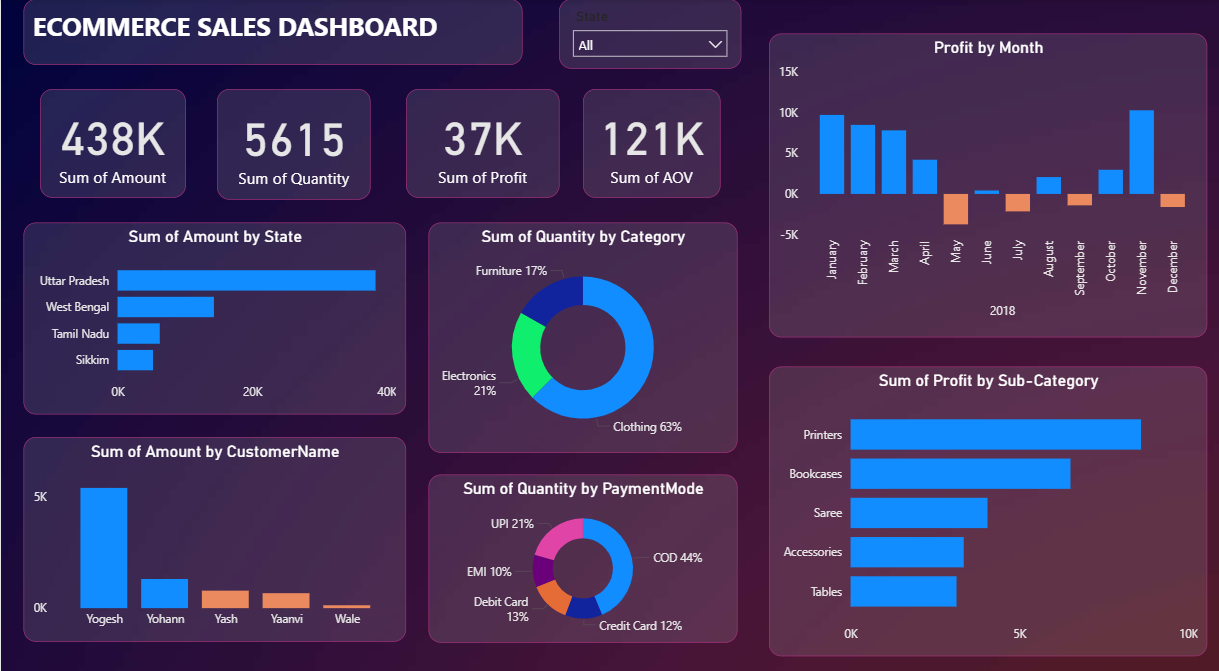

What the dashboard file says about the page in this screenshot:
{"tool":"powerbi","page":{"name":"Page 1","canvas":[1280,720],"ordinal":0},"visuals":[{"type":"textbox","box":[23.3,0,520,68.3],"z":0},{"type":"columnChart","title":"Profit by Month","fields":{"Category":["Orders.Order Date.Variation.Date Hierarchy.Year","Orders.Order Date.Variation.Date Hierarchy.Month","Orders.Order Date.Variation.Date Hierarchy.Day"],"Y":["Details.Profit"]},"box":[800,36.7,456.7,316.7],"z":1000},{"type":"barChart","fields":{"Category":["Details.Sub-Category"],"Y":["Details.Profit"]},"box":[800,383.3,456.7,301.7],"z":2000},{"type":"donutChart","fields":{"Category":["Details.Category"],"Y":["Details.Quantity"]},"box":[445,233.3,321.7,240],"z":3000},{"type":"donutChart","fields":{"Y":["Details.Quantity"],"Series":["Details.PaymentMode"]},"box":[445,495,321.7,175],"z":4000},{"type":"card","fields":{"Values":["Details.Amount"]},"box":[40,93.3,151.7,113.3],"z":5000},{"type":"card","fields":{"Values":["Details.Quantity"]},"box":[225,93.3,160,115],"z":6000},{"type":"card","fields":{"Values":["Details.Profit"]},"box":[421.7,93.3,160,113.3],"z":7000},{"type":"card","fields":{"Values":["Details.AOV"]},"box":[606.7,93.3,143.3,113.3],"z":8000},{"type":"barChart","fields":{"Category":["Orders.State"],"Y":["Details.Amount"]},"box":[23.3,233.3,398.3,200],"z":9000},{"type":"columnChart","fields":{"Category":["Orders.CustomerName"],"Y":["Details.Amount"]},"box":[23.3,456.7,398.3,213.3],"z":10000},{"type":"slicer","fields":{"Values":["Orders.State"]},"box":[581.8,0,190,72.7],"z":11000}]}

Visuals, with their boxes in screenshot pixels (x1, y1, x2, y2), scaled from the page's 1280x720 canvas onto the 1219x671 screenshot:
textbox: bbox=(22, 0, 517, 64)
"Profit by Month" columnChart: bbox=(762, 34, 1197, 329)
barChart - Details.Sub-Category x Details.Profit: bbox=(762, 357, 1197, 638)
donutChart - Details.Category x Details.Quantity: bbox=(424, 217, 730, 441)
donutChart - Details.Quantity x Details.PaymentMode: bbox=(424, 461, 730, 624)
card - Details.Amount: bbox=(38, 87, 183, 193)
card - Details.Quantity: bbox=(214, 87, 367, 194)
card - Details.Profit: bbox=(402, 87, 554, 193)
card - Details.AOV: bbox=(578, 87, 714, 193)
barChart - Orders.State x Details.Amount: bbox=(22, 217, 402, 404)
columnChart - Orders.CustomerName x Details.Amount: bbox=(22, 426, 402, 624)
slicer - Orders.State: bbox=(554, 0, 735, 68)
